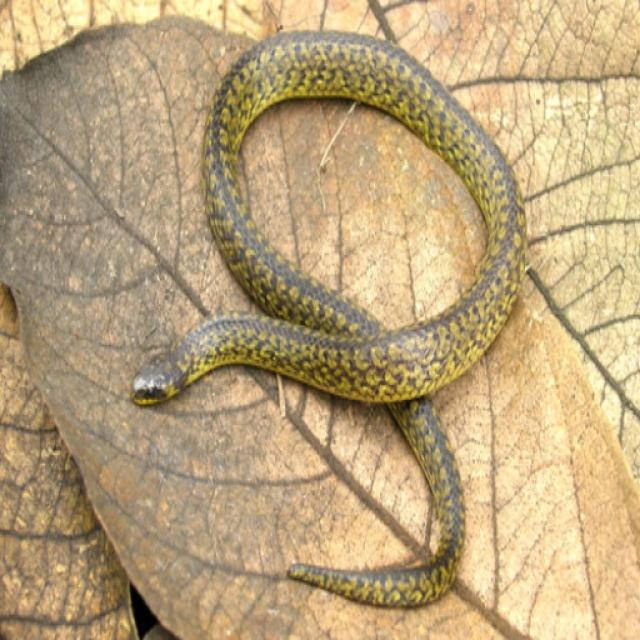snake: (124, 18, 542, 618)
